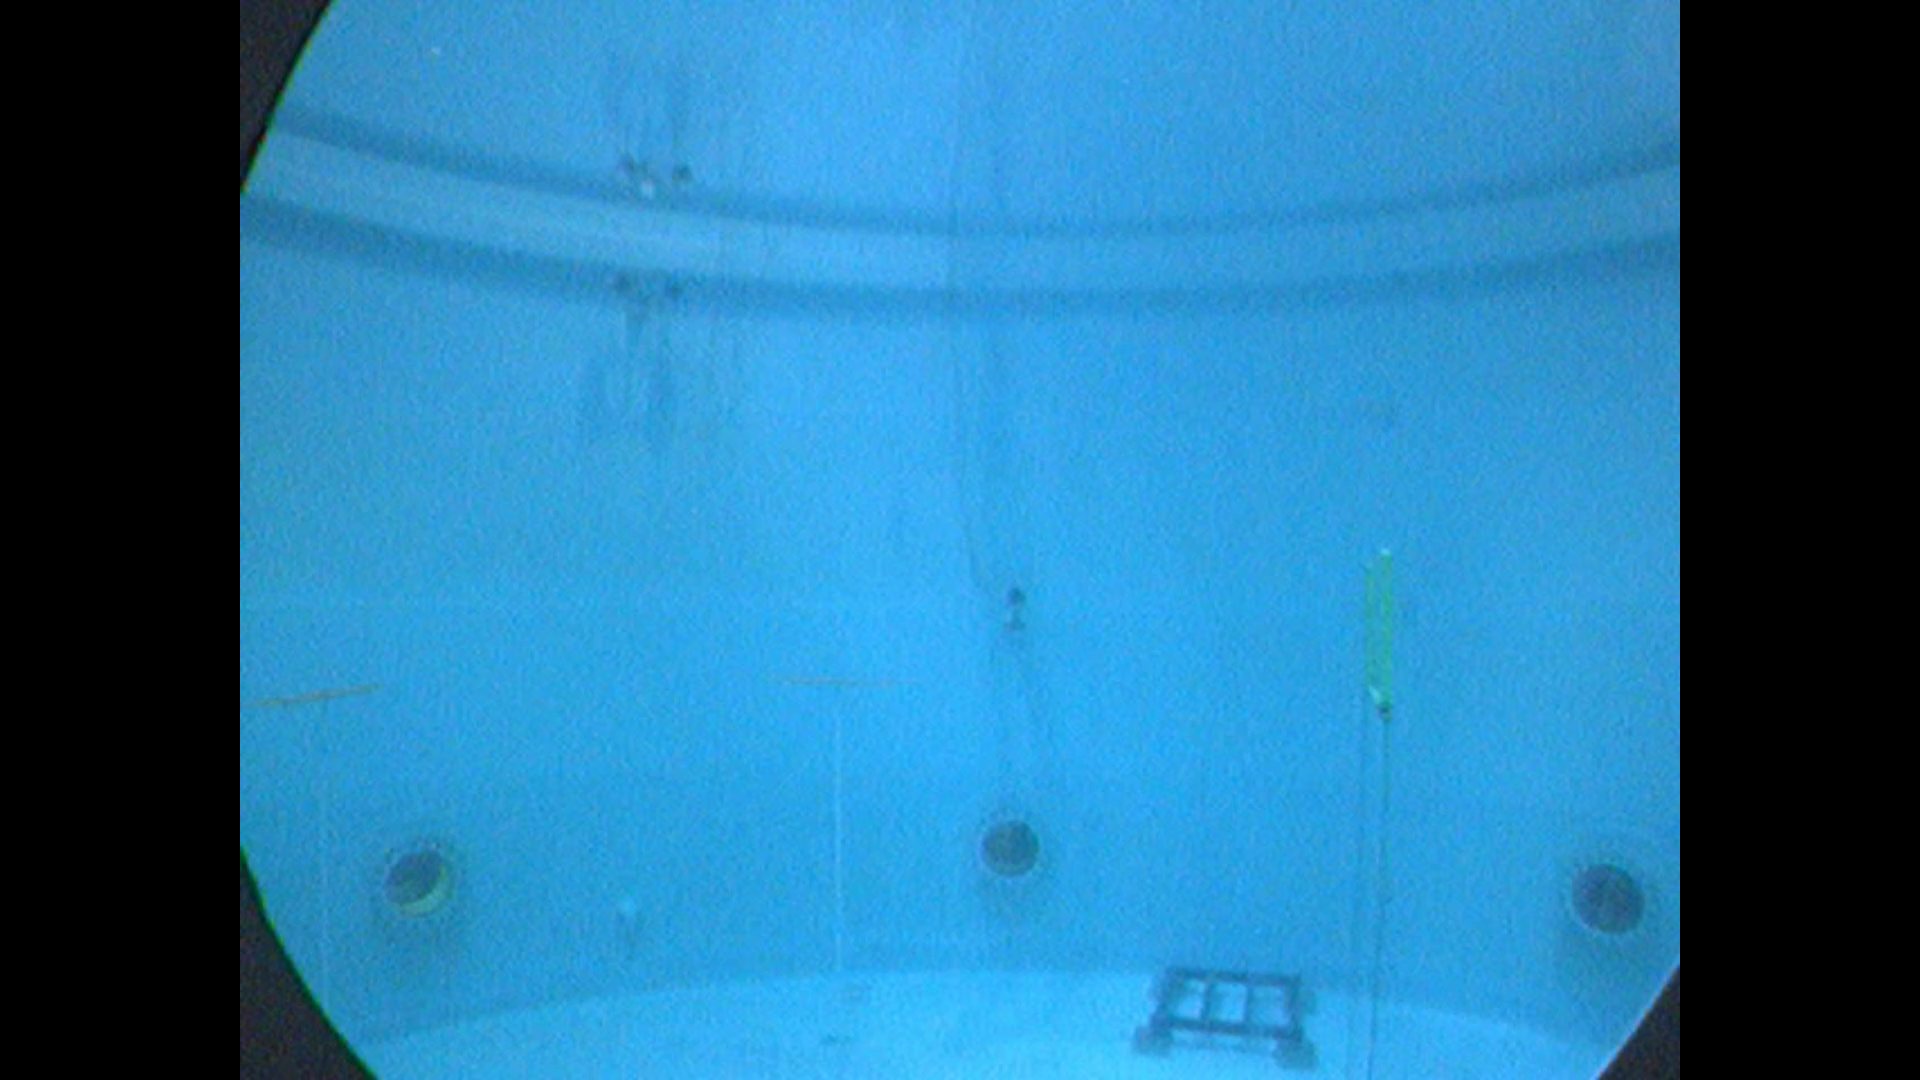gate: (1358, 545, 1403, 727)
